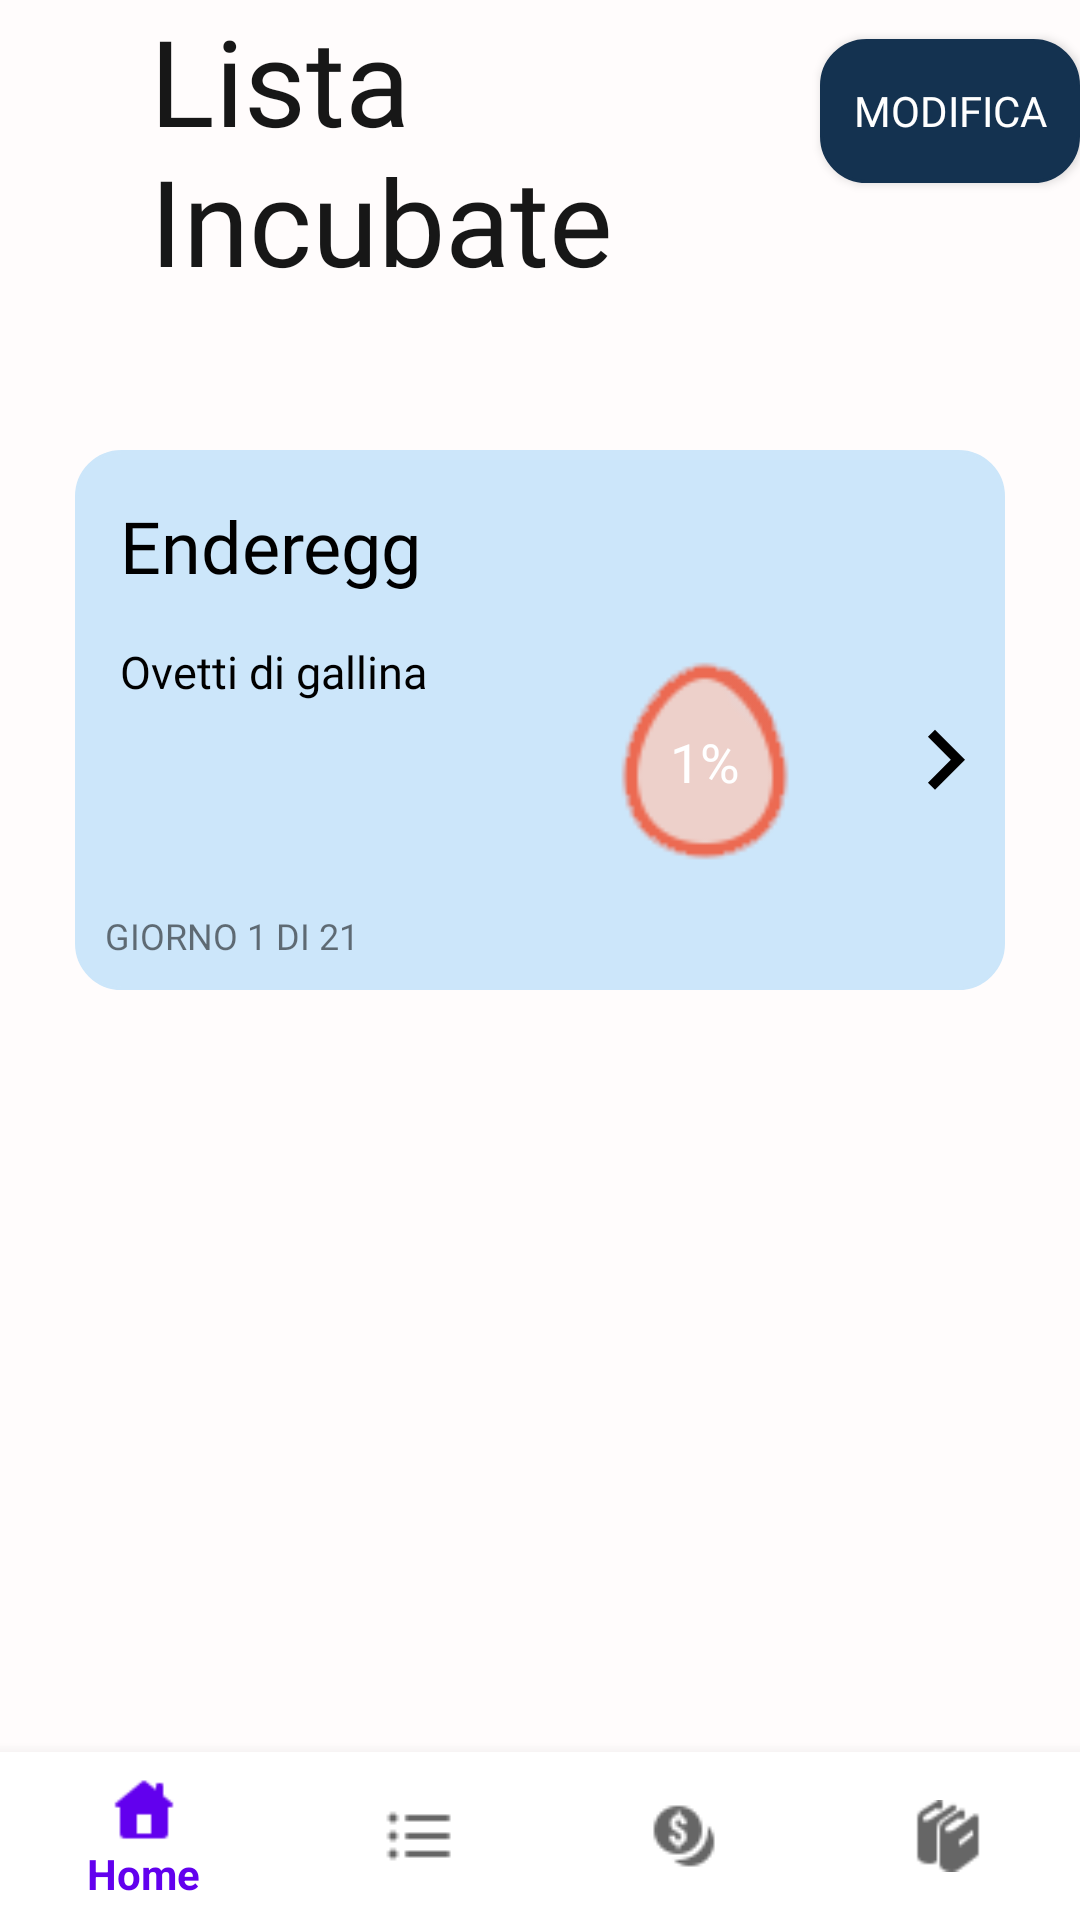

Screen size 1080w x 1920h. Icon name, then its box in pixels as (x1, y1, x2, y2):
freccia destra: (928, 730, 965, 790)
uovo dettagli: (622, 663, 788, 859)
